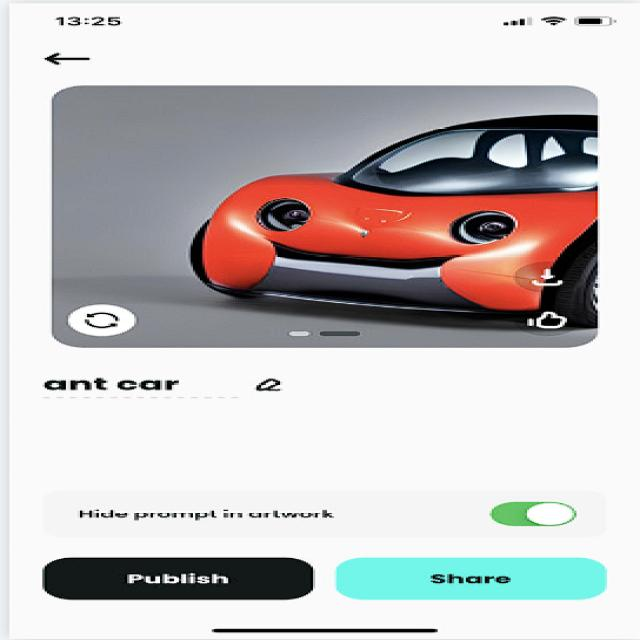button: (24, 551, 325, 606), (330, 551, 623, 606)
icon button: (33, 43, 115, 71)
image: (33, 78, 618, 349)
input: (33, 484, 609, 540)
spacer: (33, 414, 611, 474)
text: (42, 367, 324, 403)
